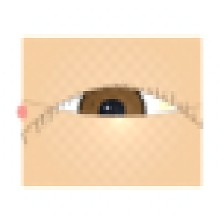pinguecula_lesion: (151, 94, 180, 118)
